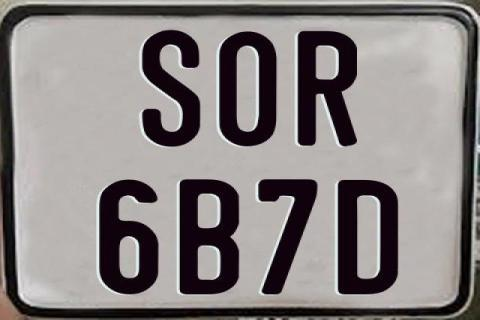0: (98, 178, 163, 294), (255, 178, 318, 294), (216, 29, 274, 150)
B: (178, 178, 242, 294)
D: (336, 179, 396, 293)
R: (295, 30, 354, 150)
S: (141, 28, 199, 146)
